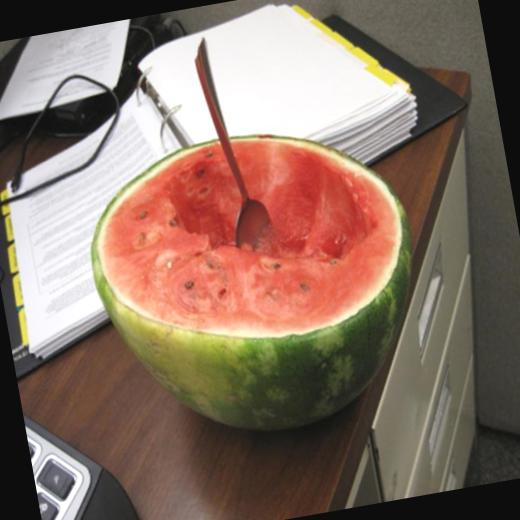Cherry: (74, 107, 446, 460)
